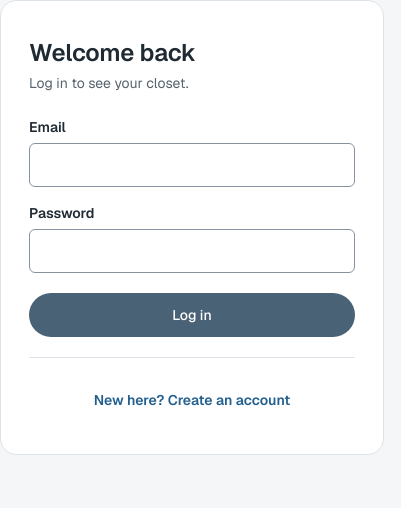
Test: AuthForm › shows the sign-in error inline
Step 1. Type "x@x.com" into the field labelled "Email" → (192,165), box [29,143,355,187]
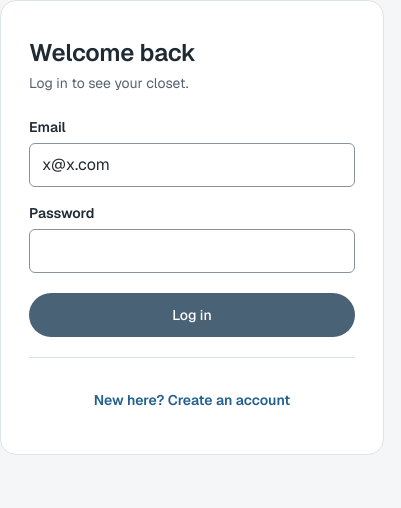
Step 2. Type "wrong" into the password field labelled "Password" → (192,251), box [29,229,355,273]
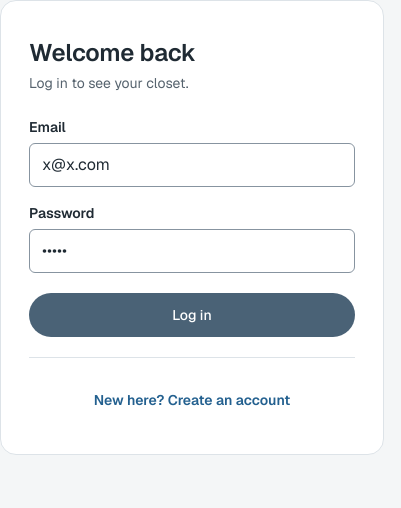
Step 3. Click the button "Log in" → (192,315), box [29,293,355,337]
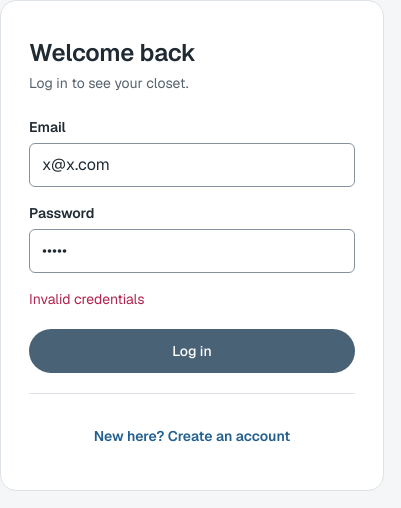
Expected: the text "Invalid credentials" is shown, [29,290,144,308]
